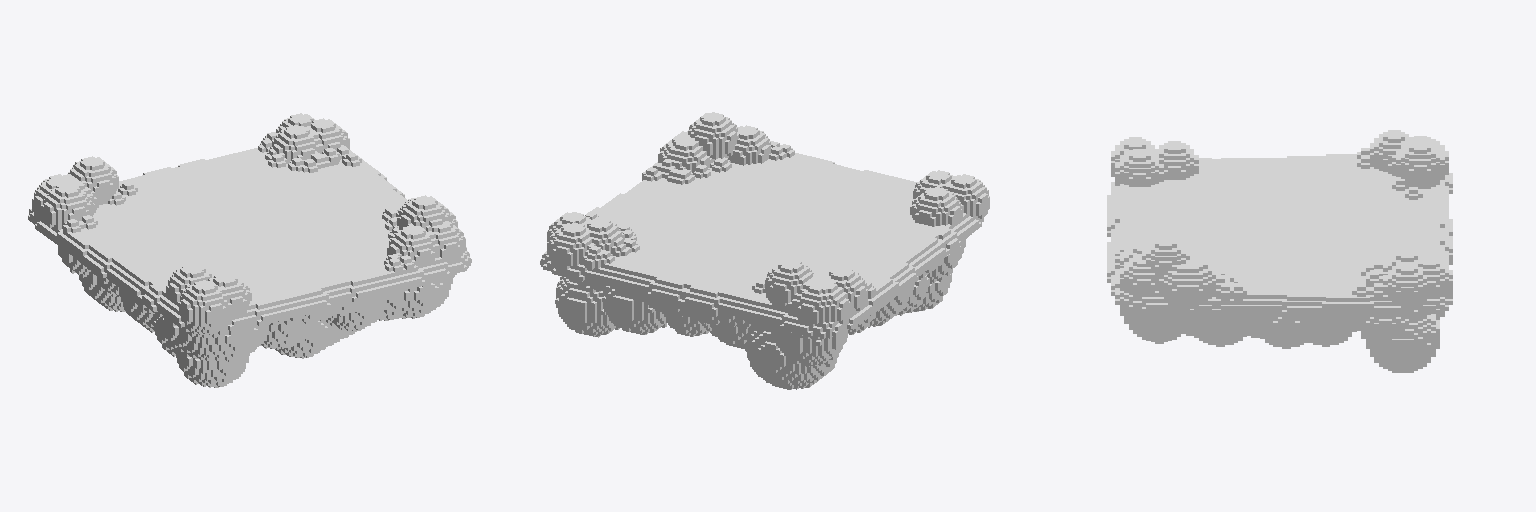
3 renders of one model, left to right at view 1: azimuth 30°, elevation 25°; view 2: azimuth 150°, elevation 25°; view 3: azimuth 270°, elevation 25°, orthographic.
Visible parts, largest first — view 1: Model; view 2: Model; view 3: Model.
Part boxes in pixels (x1,y1,x2,y2): Model: (28,113,471,387); Model: (540,112,989,389); Model: (1107,130,1452,372).
Size of the model in its own units: 32 by 14 by 31.6.
Materials: 1 (1 with a texture image).